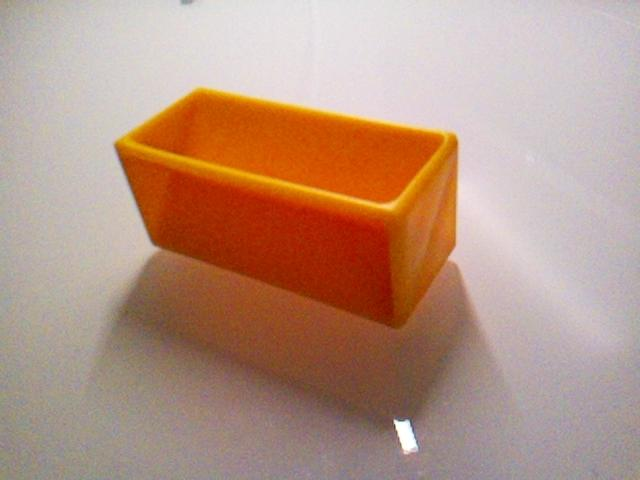yellow: (113, 85, 460, 331)
